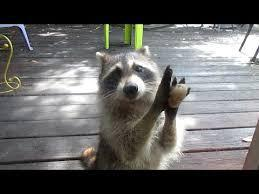raccoon: (72, 39, 197, 170)
